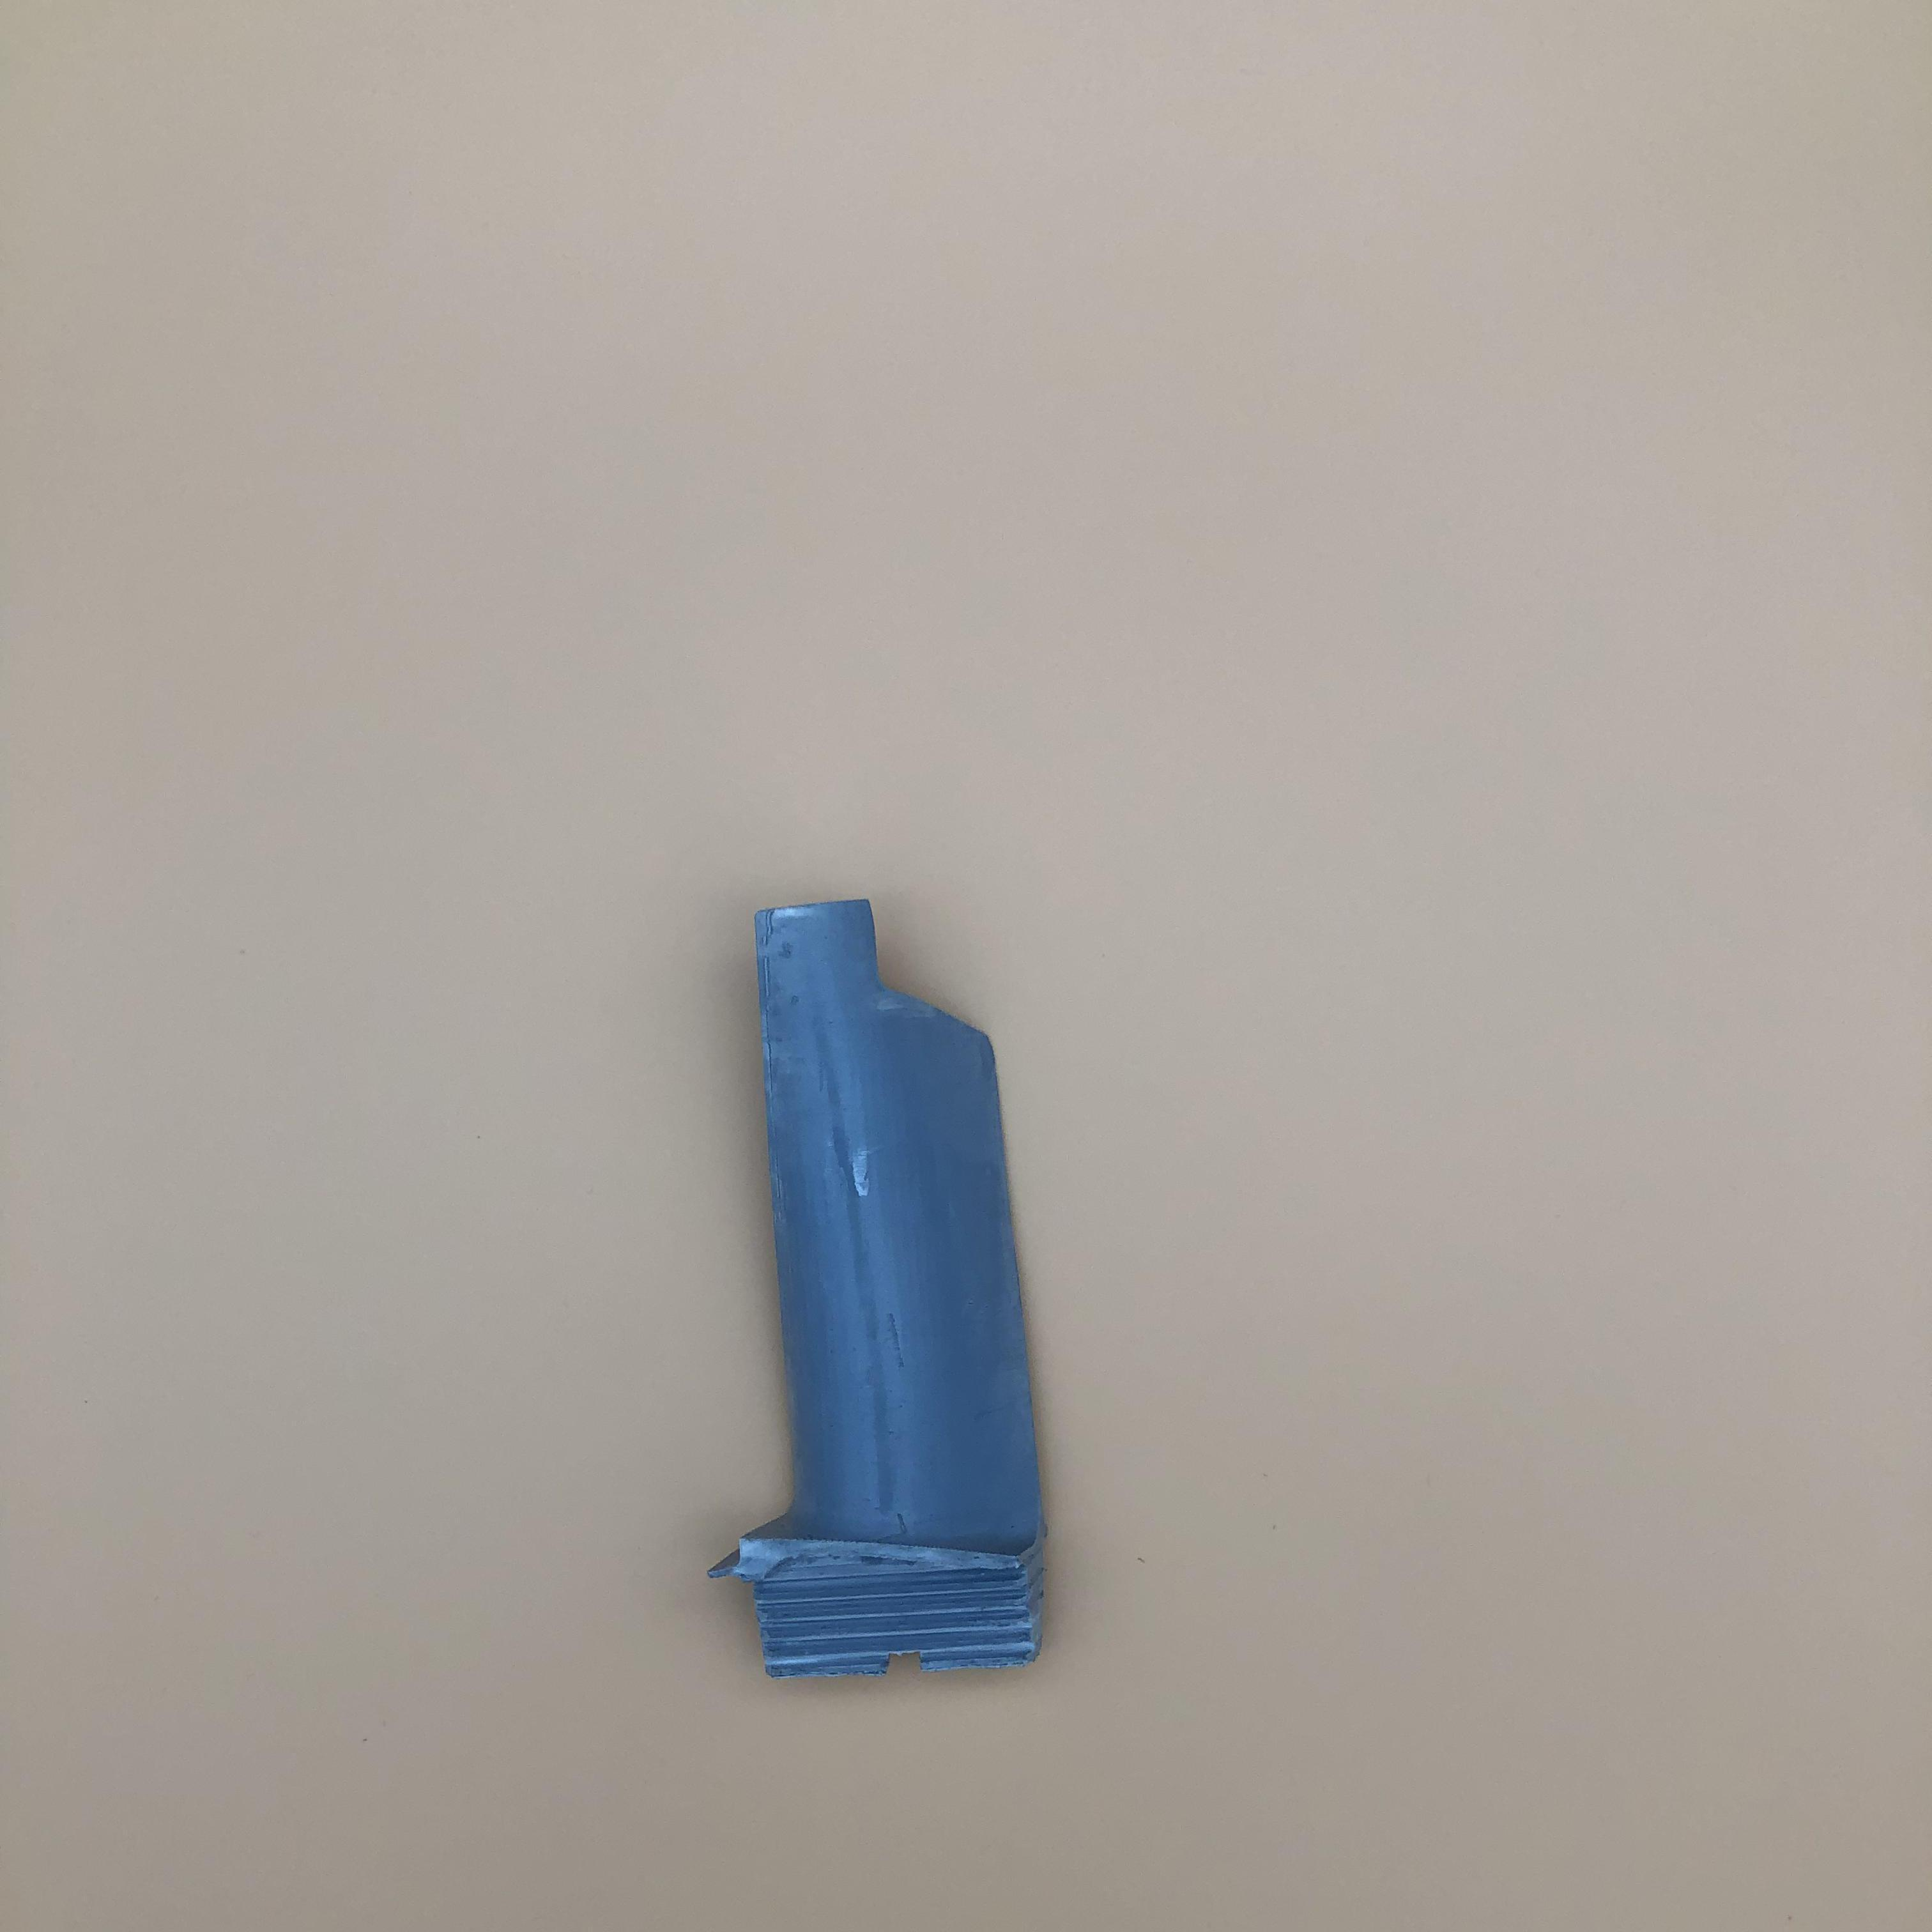fracture: (853, 913, 989, 1047)
